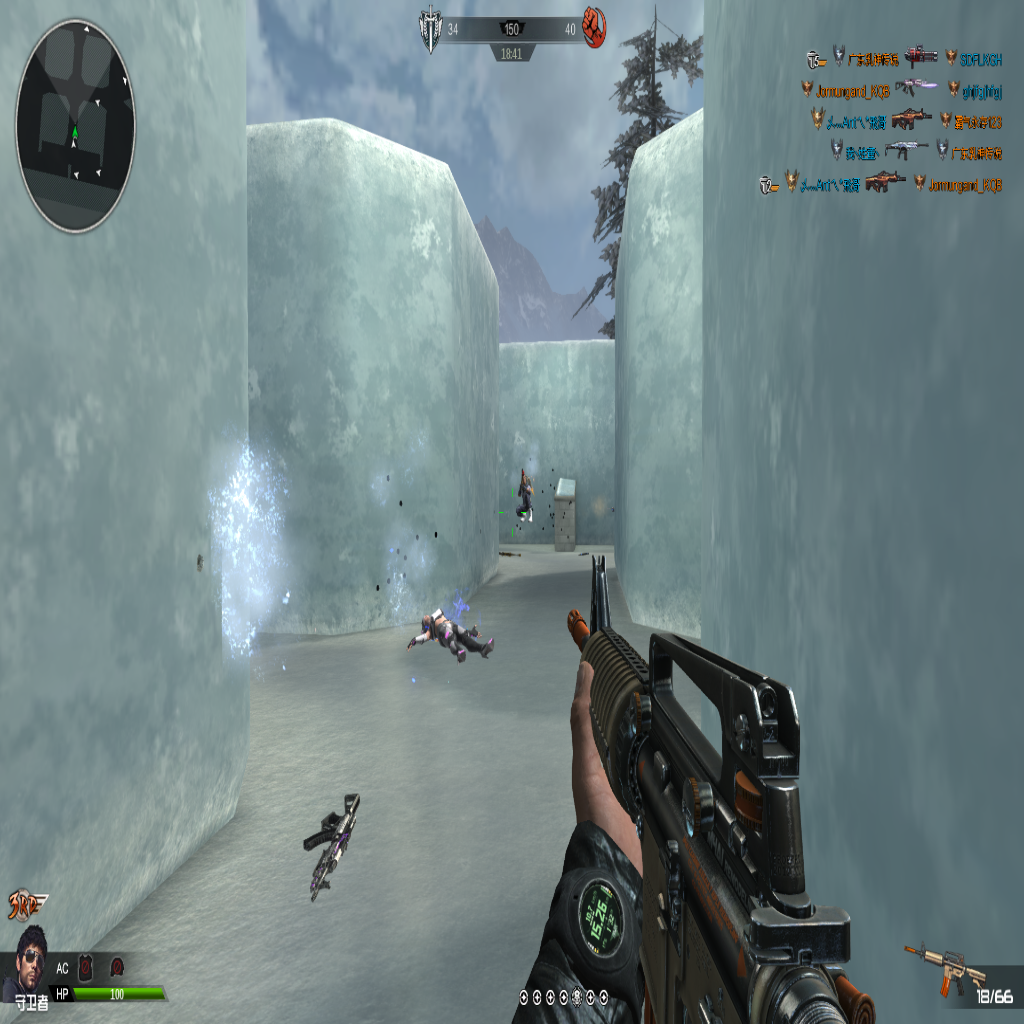tt: (518, 467, 533, 521)
